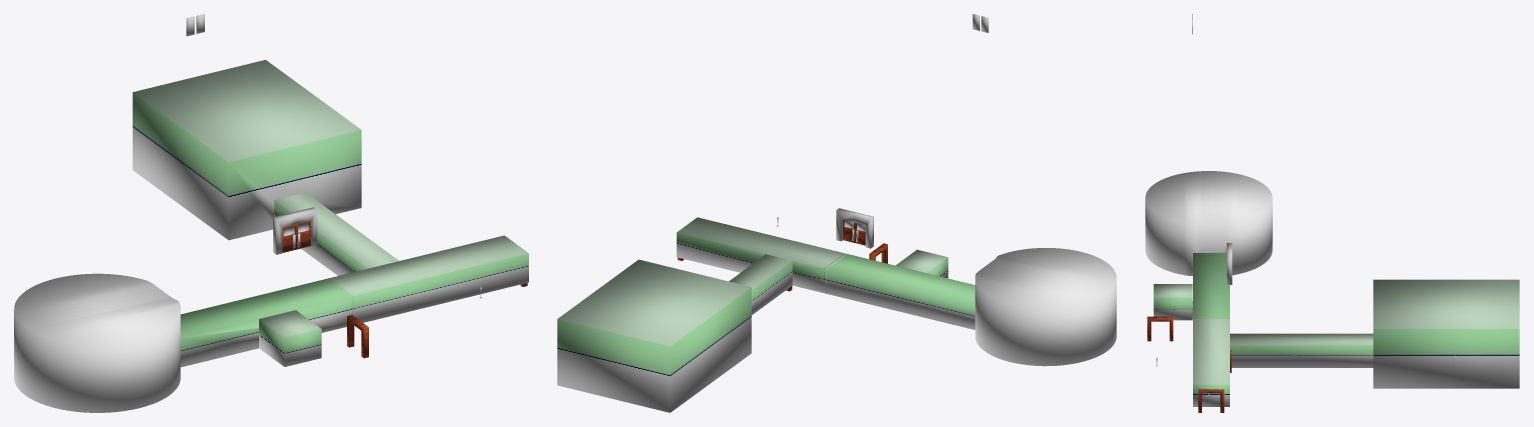
File: Asylum.fbx
The picture shows the model from 3 angles, left to right: view 1: azimuth 30°, elevation 25°; view 2: azimuth 150°, elevation 25°; view 3: azimuth 270°, elevation 25°; orthographic projection. The views are drawn at different scales.
Parts seen in each view (by area): view 1: Cube_004, Cylinder_001, Cube_001, Cube_003, Cube_002, ARCH_004, ARCH; view 2: Cube_004, Cylinder_001, Cube_001, Cube_003, Cube_002, ARCH_004; view 3: Cube_004, Cylinder_001, Cube_002, Cube_001, Cube_003, ARCH.
Boxes of the visible parts, x1,y1,x2,y2 form: Cube_004: [132, 59, 361, 240]; Cylinder_001: [14, 273, 180, 412]; Cube_001: [180, 278, 352, 367]; Cube_003: [331, 235, 528, 322]; Cube_002: [274, 192, 398, 275]; ARCH_004: [273, 207, 317, 254]; ARCH: [347, 315, 368, 358]; Cube_004: [557, 259, 751, 412]; Cylinder_001: [975, 248, 1116, 366]; Cube_001: [826, 249, 975, 329]; Cube_003: [676, 217, 846, 293]; Cube_002: [729, 254, 792, 314]; ARCH_004: [836, 208, 873, 248]; Cube_004: [1373, 279, 1519, 388]; Cylinder_001: [1145, 171, 1272, 275]; Cube_002: [1230, 333, 1373, 367]; Cube_001: [1153, 253, 1229, 320]; Cube_003: [1193, 319, 1229, 406]; ARCH: [1147, 316, 1173, 341].
Size of the model in its own units: 5912 by 4038 by 5066.
